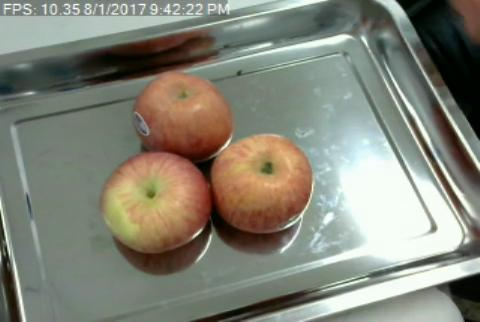apple: (100, 153, 211, 253), (212, 135, 313, 233), (133, 72, 230, 155)
